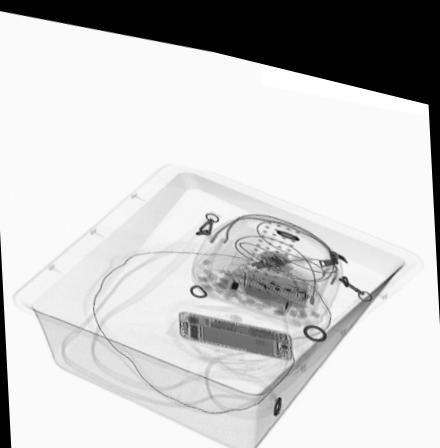Lighter: (245, 242, 287, 260)
